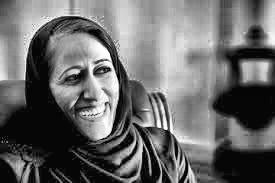happy: (37, 20, 127, 157)
